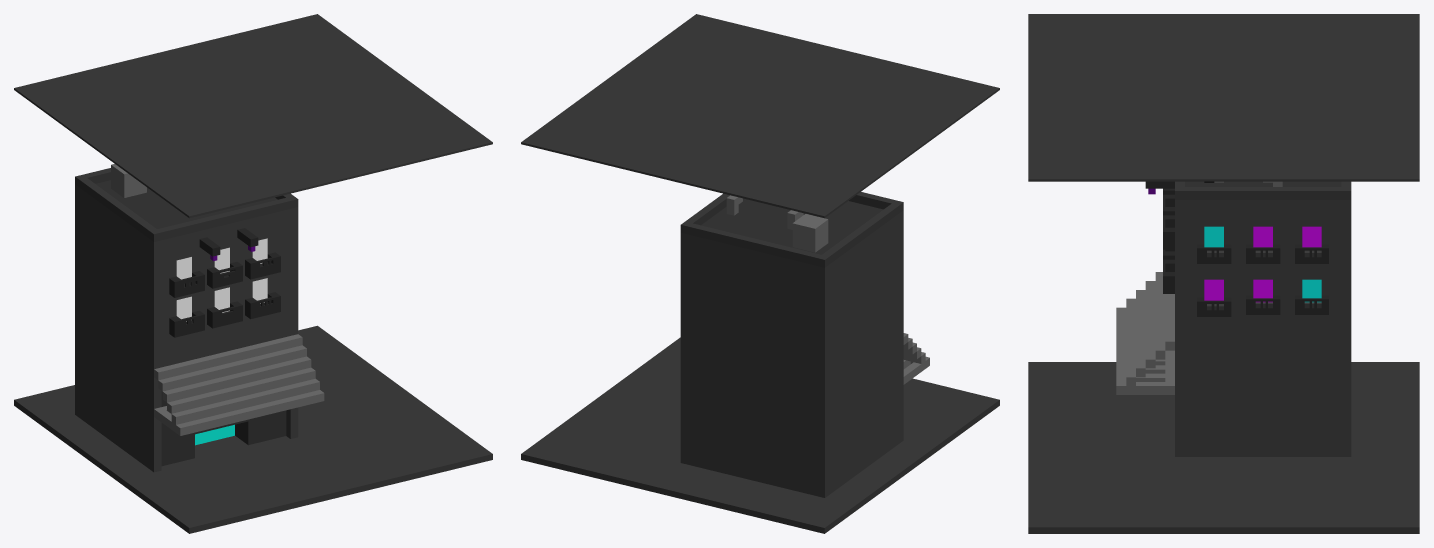
The model's file is building-large-4.obj.
3 views of the same model, side by side, from view 1: azimuth 30°, elevation 25°; view 2: azimuth 150°, elevation 25°; view 3: azimuth 270°, elevation 25° (orthographic). The views are drawn at different scales.
Size of the model in its own units: 16 by 16 by 16.
Materials: 1 (1 with a texture image).
